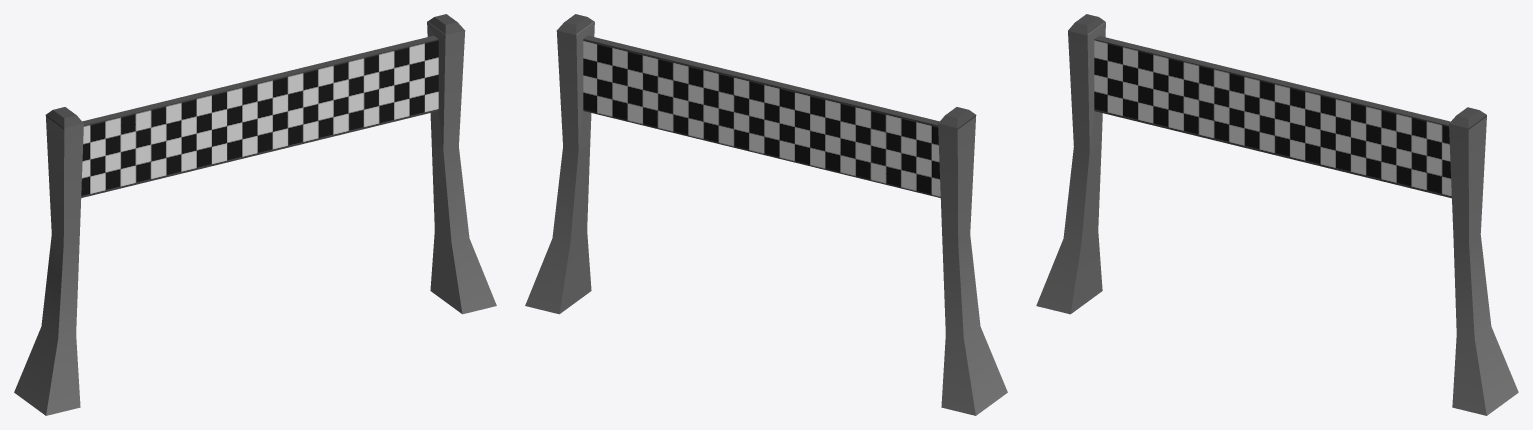
File: finish.glb
3 views of the same model, side by side, from view 1: azimuth 30°, elevation 25°; view 2: azimuth 150°, elevation 25°; view 3: azimuth 330°, elevation 25° (orthographic).
Visible parts, largest first — view 1: pCube32; view 2: pCube32; view 3: pCube32.
Boxes of the visible parts, box(x1,y1,x2,y2) form: pCube32: box(14, 14, 496, 415); pCube32: box(525, 14, 1007, 415); pCube32: box(1036, 14, 1518, 415).
Bounding box in the file's own units: 0.8128 × 0.4877 × 0.1.
Materials: 1 (1 with a texture image).
